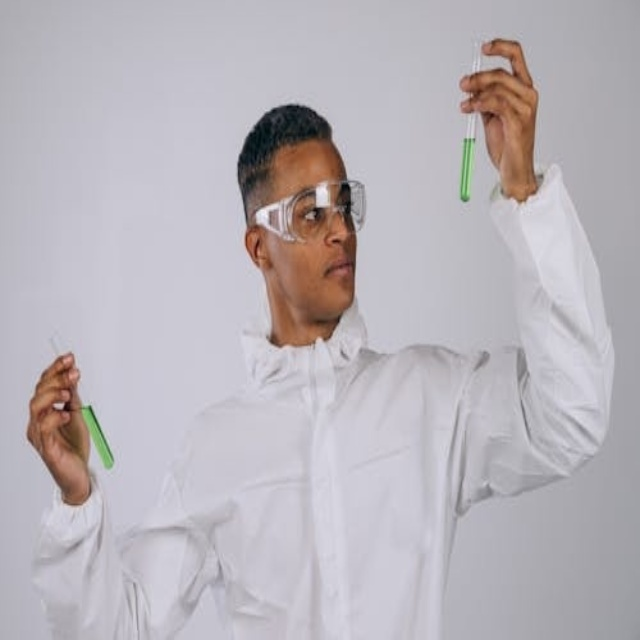Gafas: (249, 180, 366, 244)
Sin_guantes: (456, 33, 540, 190), (23, 346, 96, 496)
Sin_mascara: (315, 254, 357, 308)
